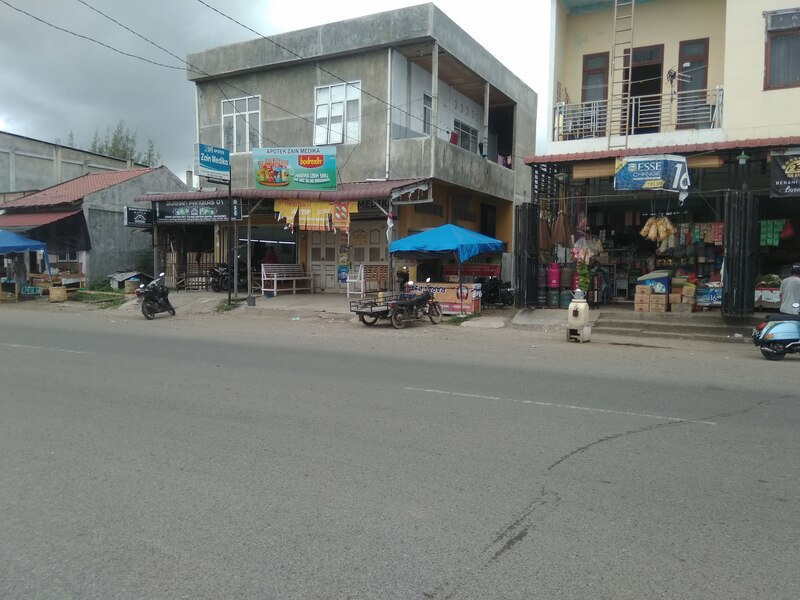becak barang: (348, 278, 449, 333)
